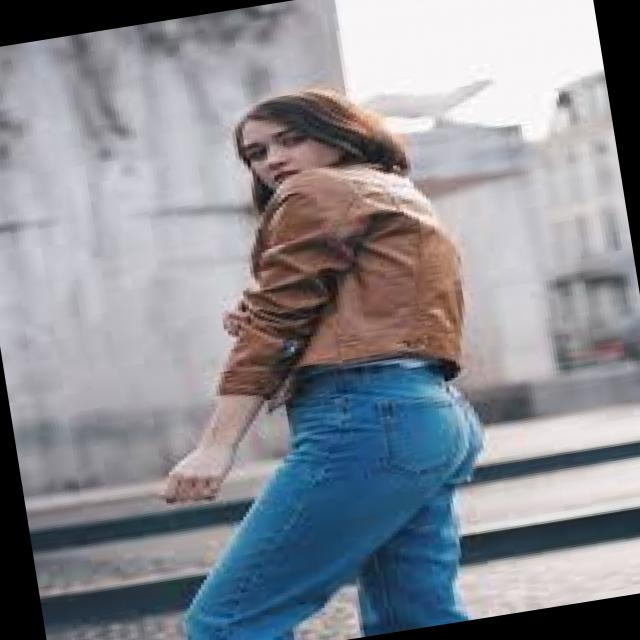Jacket: (177, 142, 510, 428)
